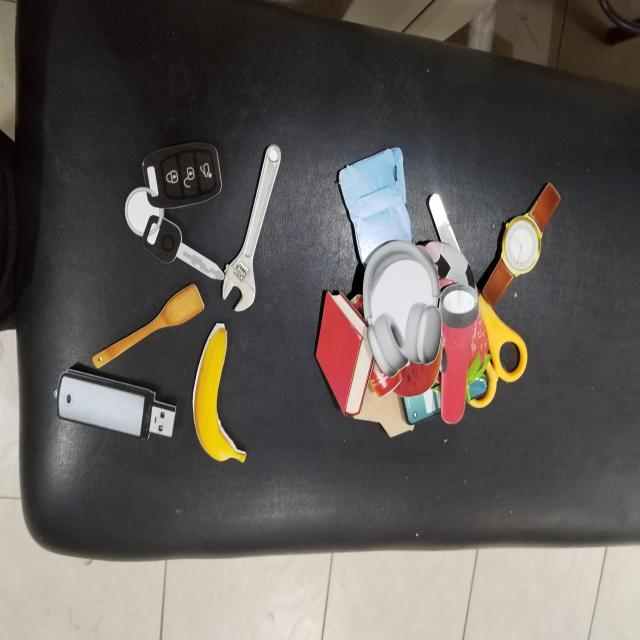Other Objects: (123, 142, 225, 285), (479, 168, 562, 322), (90, 281, 206, 383), (361, 239, 443, 377), (336, 142, 424, 265), (221, 143, 281, 312), (54, 366, 178, 446), (192, 322, 247, 463), (439, 284, 478, 424)
